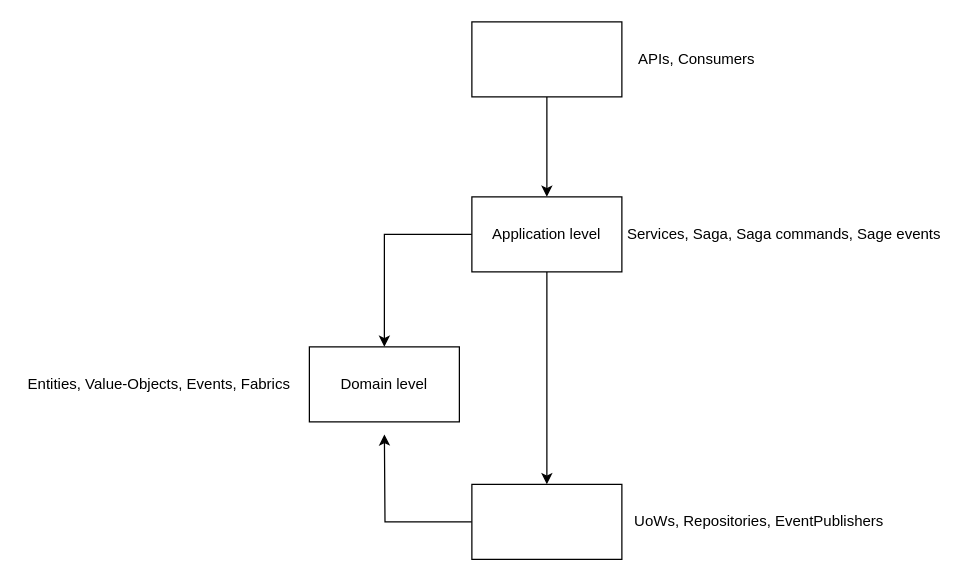
Image size: 968x581. Some labels were removed from this diagram. Here are the shapes that lost their labels. From the top down, the centre of each, then its label:
At point (546, 59): "Presentation level".
At point (546, 521): "Infrastructure level".
